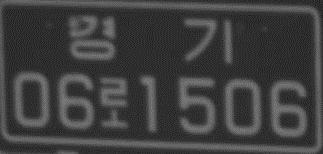0: (223, 78, 261, 136), (12, 72, 49, 127)
1: (138, 74, 162, 133)
5: (177, 76, 217, 134)
6: (58, 72, 95, 130), (270, 79, 307, 137)
경기_D: (68, 13, 233, 63)
로: (99, 77, 129, 128)
